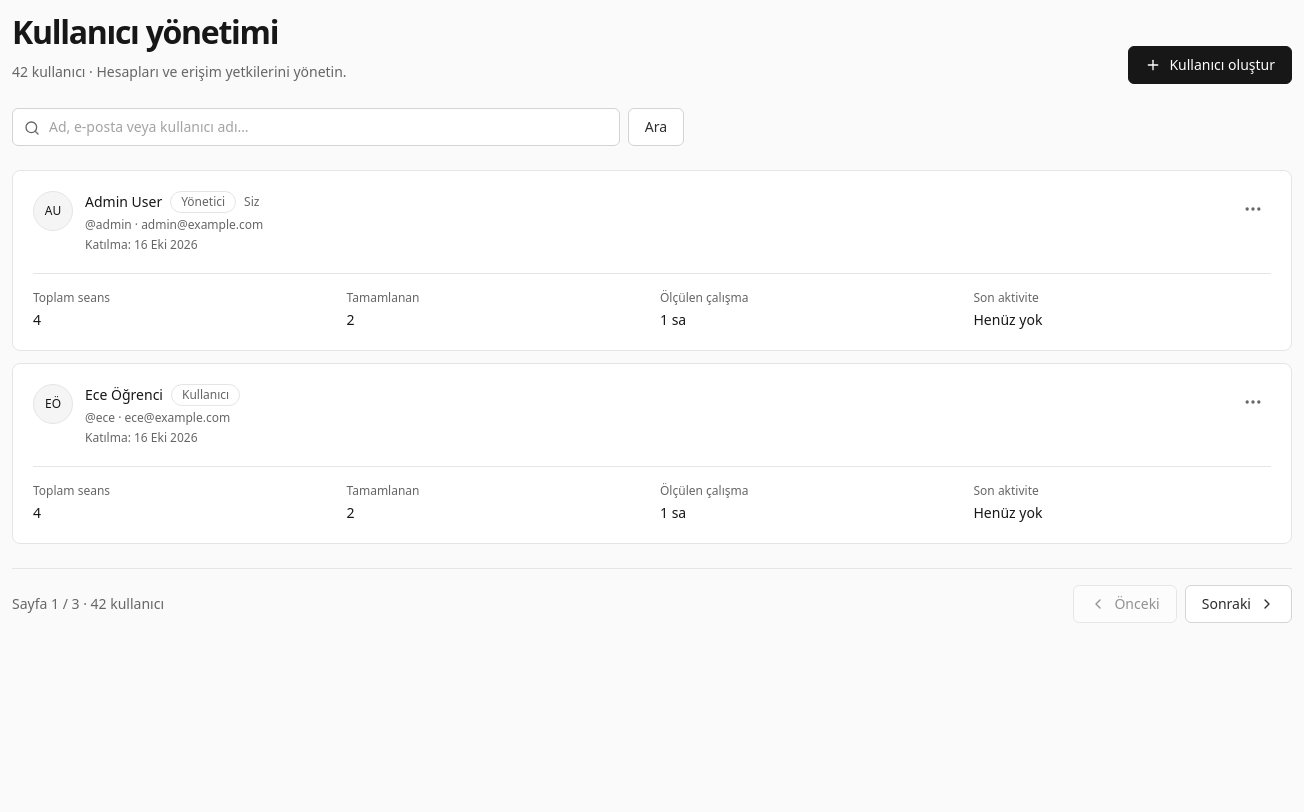
Test: disables self role, status and deletion actions and explains the restriction
The width and height of the screenshot is (1304, 812).
Click the button named "Admin User için işlemler": [1253, 209] box left=1235, top=191, right=1271, bottom=227
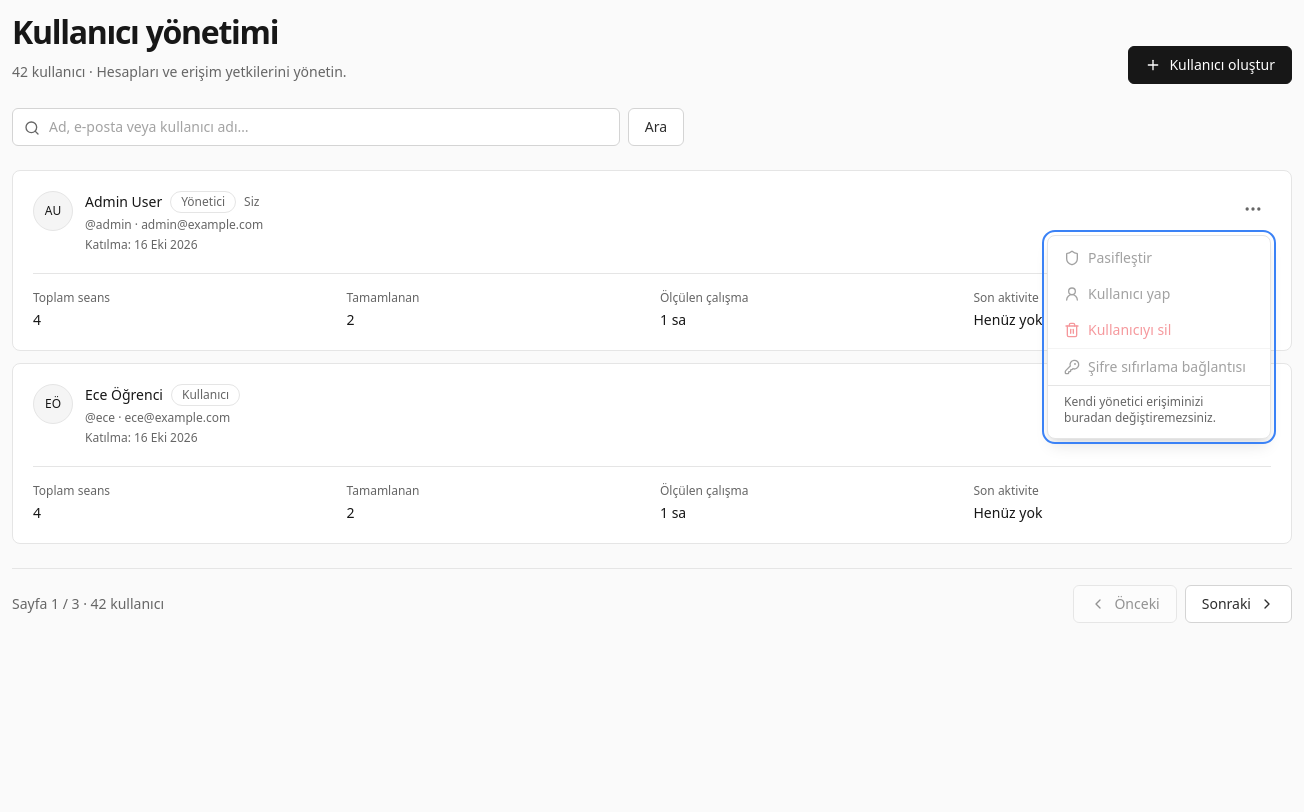
Now the text "Kendi yönetici erişiminizi buradan değiştiremezsiniz." is shown, box left=1048, top=385, right=1270, bottom=434
Now the menu item "Pasifleştir" is disabled, box left=1048, top=240, right=1270, bottom=276
Now the menu item "Kullanıcı yap" is disabled, box left=1048, top=276, right=1270, bottom=312
